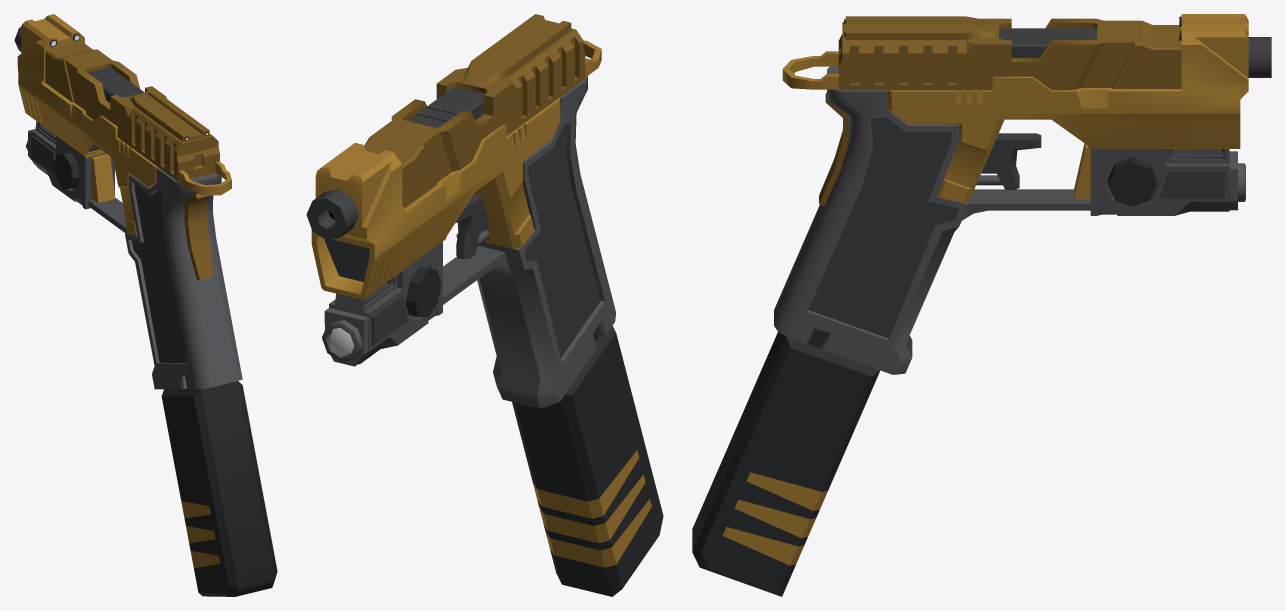
The model's file is pistol.obj.
The picture shows the model from 3 angles, left to right: view 1: azimuth 30°, elevation 25°; view 2: azimuth 150°, elevation 25°; view 3: azimuth 270°, elevation 25°; orthographic projection. The views are drawn at different scales.
Parts seen in each view (by area): view 1: Handle1; view 2: Handle1; view 3: Handle1.
Part boxes in pixels (x1,y1,x2,y2): Handle1: [14, 14, 277, 596]; Handle1: [306, 14, 663, 596]; Handle1: [692, 14, 1271, 596].
Bounding box in the file's own units: 0.192 × 1.66 × 1.55.
Materials: 1 (1 with a texture image).
